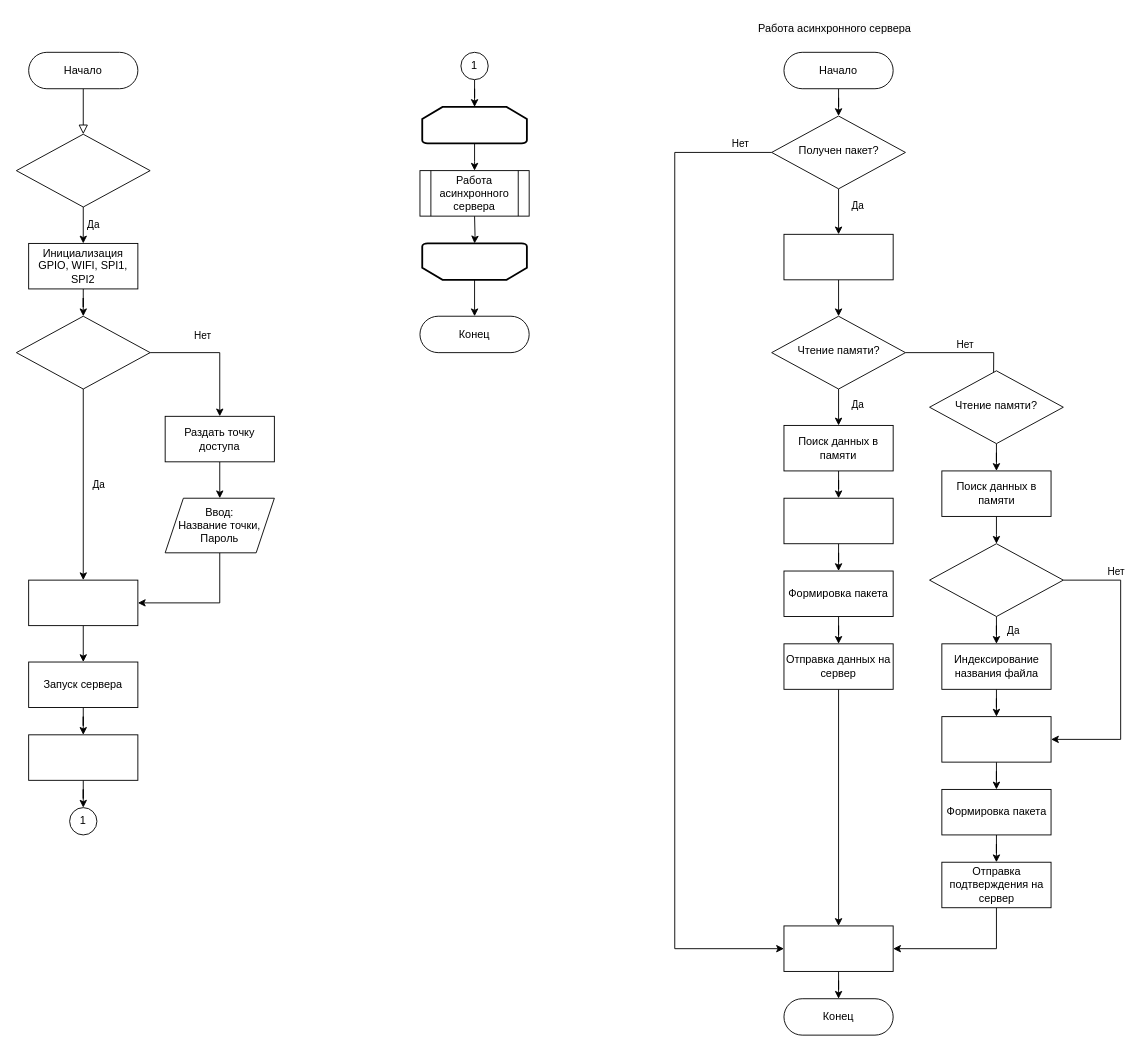
This 1144x1051 diagram has some shape labels left out. Each missing label, with the box of its shape:
Вывод IP сервера на дисплей: (28, 734, 138, 780)
Есть данные?: (929, 543, 1063, 617)
Есть питание?: (15, 133, 150, 207)
Запись данных в память: (941, 716, 1051, 762)
Конец цикла: (421, 242, 527, 280)
Начало цикла: (421, 106, 527, 144)
Отображение статуса на дисплей: (783, 925, 893, 971)
Подключиться к точке доступа: (28, 579, 138, 626)
Расшифровка пакета: (783, 233, 893, 280)
Точка доступа задана?: (15, 315, 150, 389)
Чтение данных из памяти: (783, 497, 893, 544)
